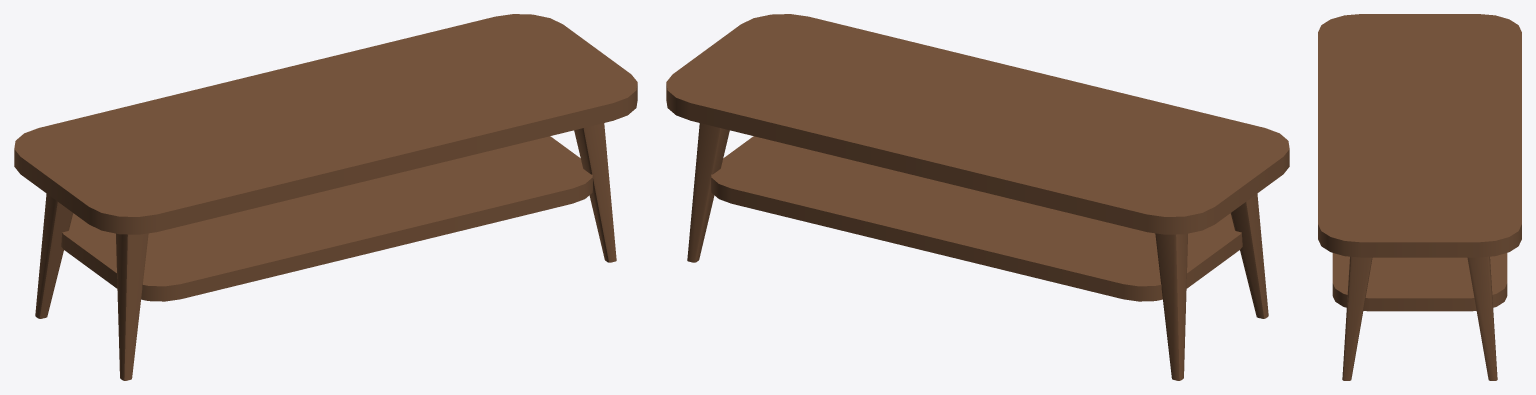
The model's file is Mesita.fbx.
3 renders of one model, left to right at view 1: azimuth 30°, elevation 25°; view 2: azimuth 150°, elevation 25°; view 3: azimuth 270°, elevation 25°, orthographic. The views are drawn at different scales.
Visible parts, largest first — view 1: tabla; view 2: tabla; view 3: tabla.
Part boxes in pixels (x1,y1,x2,y2): tabla: [14, 14, 637, 380]; tabla: [666, 14, 1289, 380]; tabla: [1318, 14, 1521, 380].
Bounding box in the file's own units: 245 × 74.42 × 92.26.
